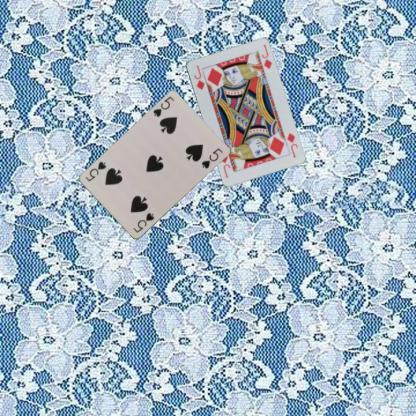5s: (150, 94, 176, 119), (130, 210, 156, 234)
Jd: (191, 63, 206, 92), (284, 130, 298, 158)
